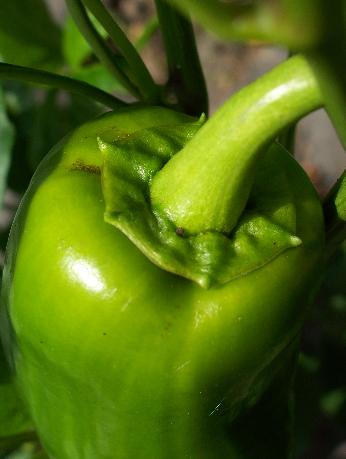capsicum: (3, 54, 328, 457)
